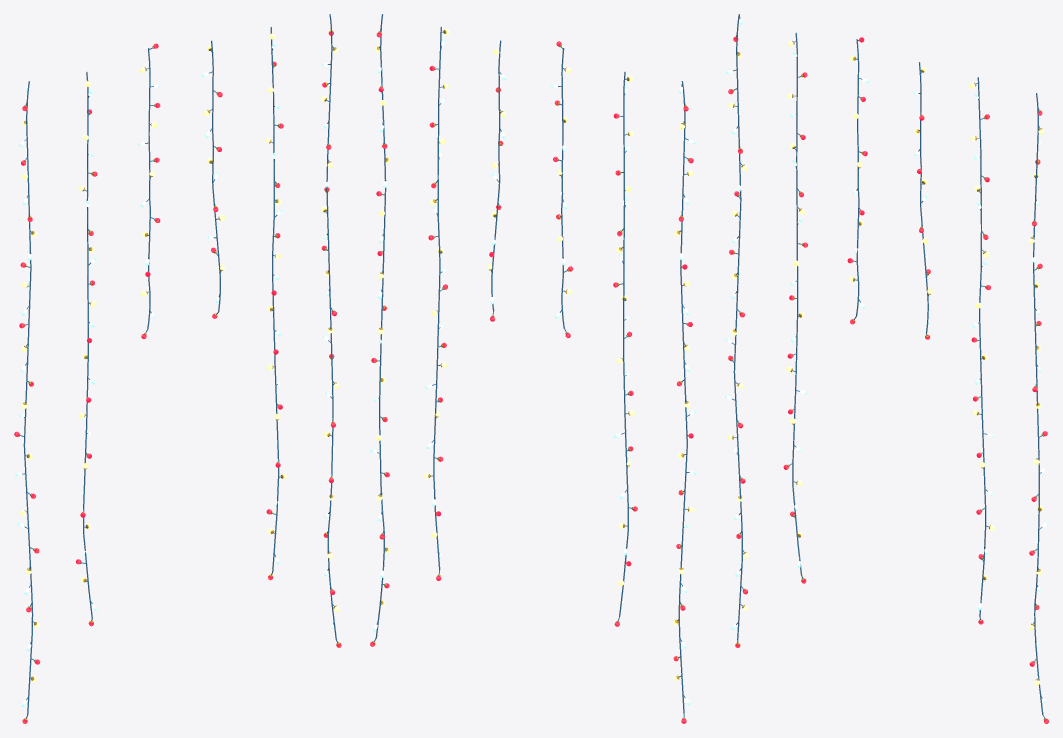
Rendered from FairyLights.gltf.
The picture shows the model from 3 angles, left to right: view 1: azimuth 30°, elevation 25°; view 2: azimuth 150°, elevation 25°; view 3: azimuth 330°, elevation 25°; orthographic projection.
Visible parts, largest first — view 1: FairyLights_1, FairyLights_6, FairyLights_2, FairyLights_5, FairyLights_3, FairyLights_4; view 2: FairyLights_1, FairyLights_6, FairyLights_2, FairyLights_5, FairyLights_3, FairyLights_4; view 3: FairyLights_1, FairyLights_6, FairyLights_2, FairyLights_5, FairyLights_3, FairyLights_4.
Part boxes in pixels (x1,y1,x2,y2): FairyLights_1: (14,81,40,723); FairyLights_6: (320,14,341,647); FairyLights_2: (76,72,97,626); FairyLights_5: (265,27,286,580); FairyLights_3: (138,43,160,338); FairyLights_4: (201,40,225,318); FairyLights_1: (672,81,696,723); FairyLights_6: (370,14,390,646); FairyLights_2: (613,71,637,626); FairyLights_5: (423,26,449,580); FairyLights_3: (551,41,573,337); FairyLights_4: (487,40,506,321); FairyLights_1: (725,14,748,647); FairyLights_6: (1028,93,1048,723); FairyLights_2: (783,32,807,583); FairyLights_5: (970,77,995,624); FairyLights_3: (847,37,869,324); FairyLights_4: (914,62,932,339).
Size of the model in its own units: 0.2753 by 0.5242 by 0.0178.
1 material, 1 textured.
